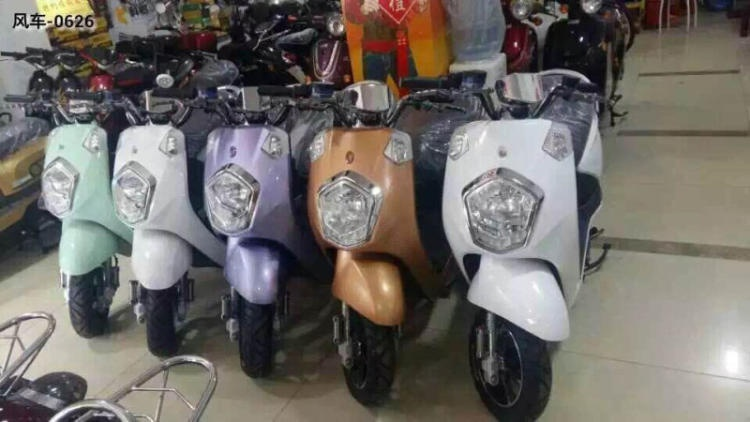non-vehicle: (441, 64, 604, 422), (305, 67, 445, 411), (202, 68, 304, 380), (109, 66, 202, 356), (40, 60, 115, 344)
